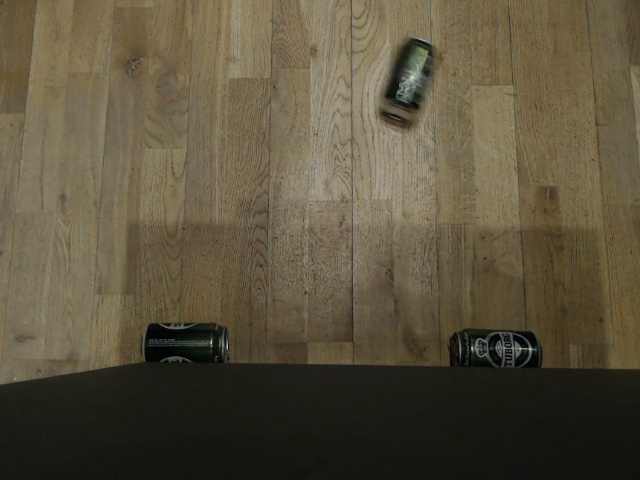beer: (380, 36, 437, 126), (448, 321, 544, 369), (137, 321, 233, 363)
